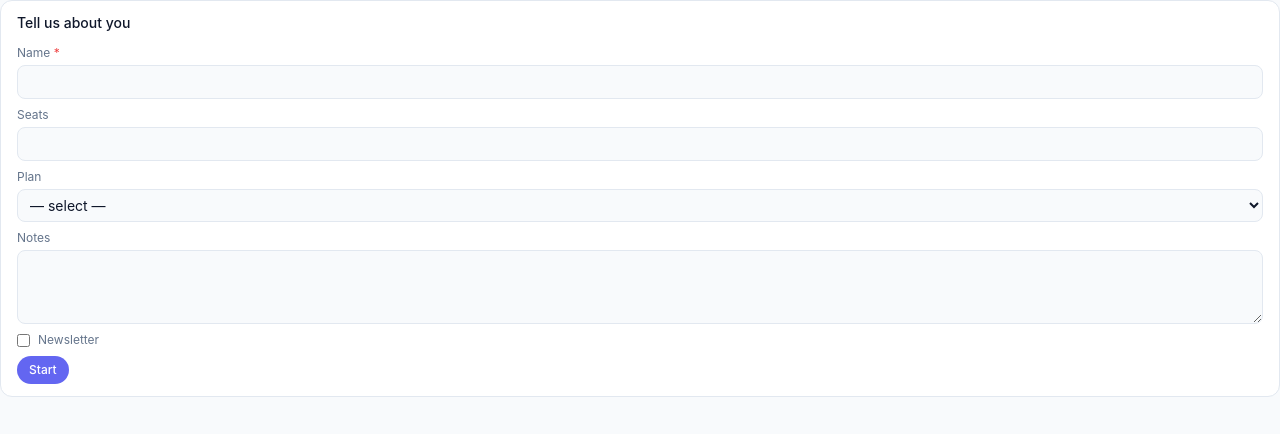
Test: RichCardView form block › blocks submit while a required field is empty
This screenshot has width=1280, height=434.
Step 1. Click the button "Start" → (43, 370), box [17,356,69,384]
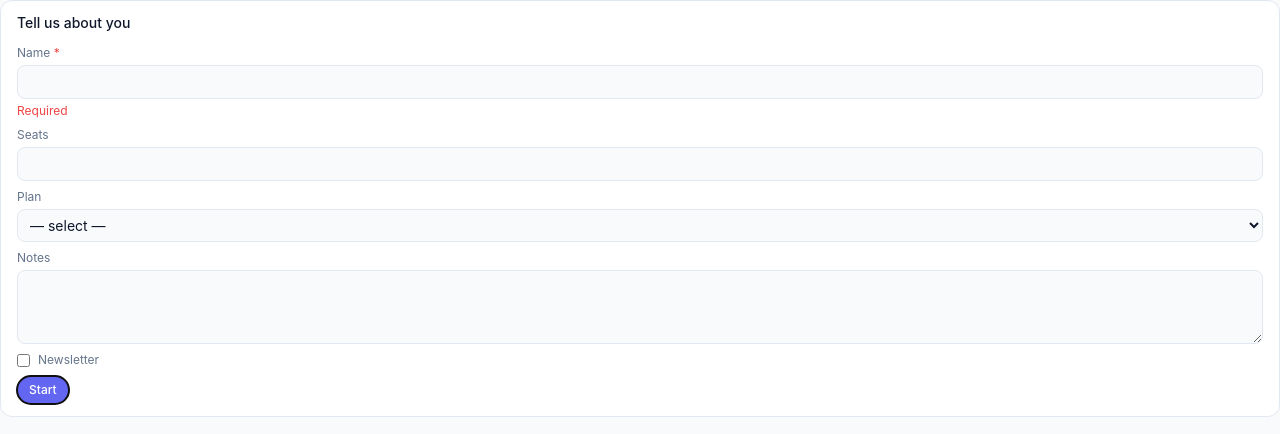
Check: the text "Required" is shown, box [17,103,68,118]
